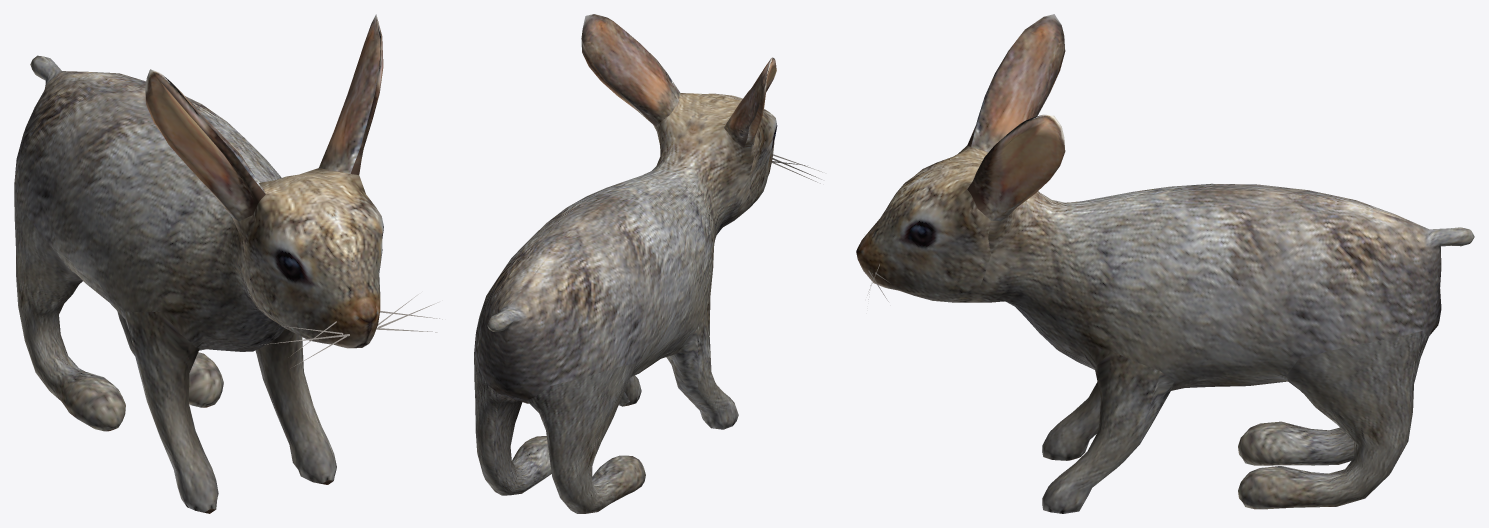
The model's file is rabbit.obj.
3 views of the same model, side by side, from view 1: azimuth 30°, elevation 25°; view 2: azimuth 150°, elevation 25°; view 3: azimuth 270°, elevation 25° (orthographic). The views are drawn at different scales.
Parts seen in each view (by area): view 1: Box01; view 2: Box01; view 3: Box01.
Boxes of the visible parts, x1,y1,x2,y2 form: Box01: (14, 14, 442, 513); Box01: (474, 14, 822, 513); Box01: (856, 14, 1474, 513).
Size of the model in its own units: 23.11 by 44.36 by 59.33.
Materials: 1 (1 with a texture image).
